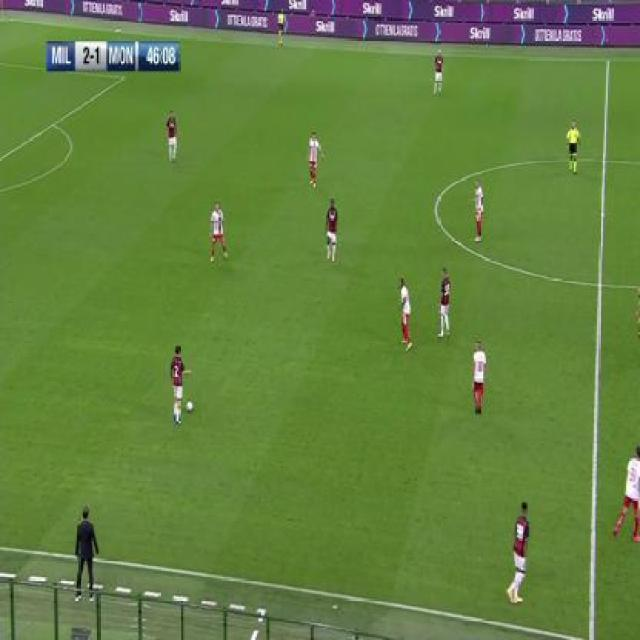ball: (185, 397, 193, 414)
player: (505, 501, 533, 606), (612, 445, 640, 547), (74, 500, 100, 599), (169, 342, 191, 427), (208, 199, 230, 264), (471, 338, 488, 417), (397, 275, 414, 351), (436, 265, 452, 341), (323, 197, 340, 263), (305, 129, 324, 188), (566, 118, 583, 175), (473, 175, 486, 243), (166, 107, 179, 166), (431, 46, 444, 99), (276, 5, 287, 47)
